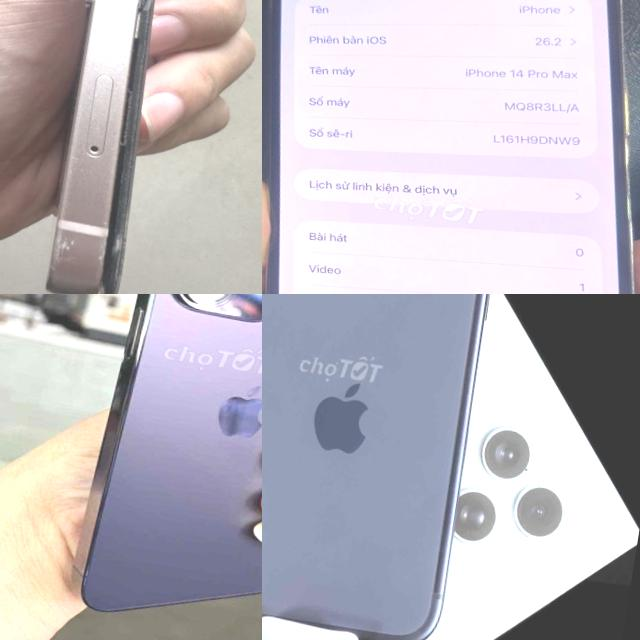gen_12_13: (11, 0, 258, 294)
gen_14: (262, 0, 640, 294), (62, 294, 262, 640)
gen_17: (262, 294, 535, 640)
